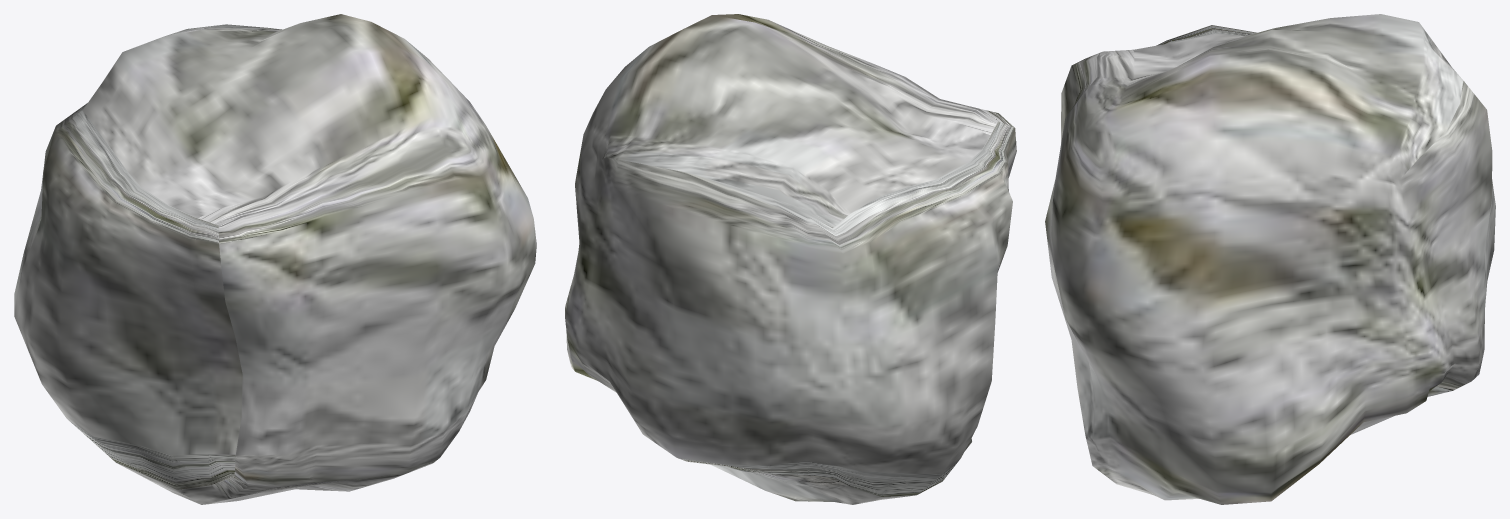
The model's file is papertrash.fbx.
3 views of the same model, side by side, from view 1: azimuth 30°, elevation 25°; view 2: azimuth 150°, elevation 25°; view 3: azimuth 270°, elevation 25° (orthographic). The views are drawn at different scales.
Parts seen in each view (by area): view 1: Cube; view 2: Cube; view 3: Cube.
Boxes of the visible parts, <box> form: Cube: <box>14,14,536,504</box>; Cube: <box>565,14,1016,504</box>; Cube: <box>1045,14,1495,504</box>.
Size of the model in its own units: 242 by 231 by 211.
